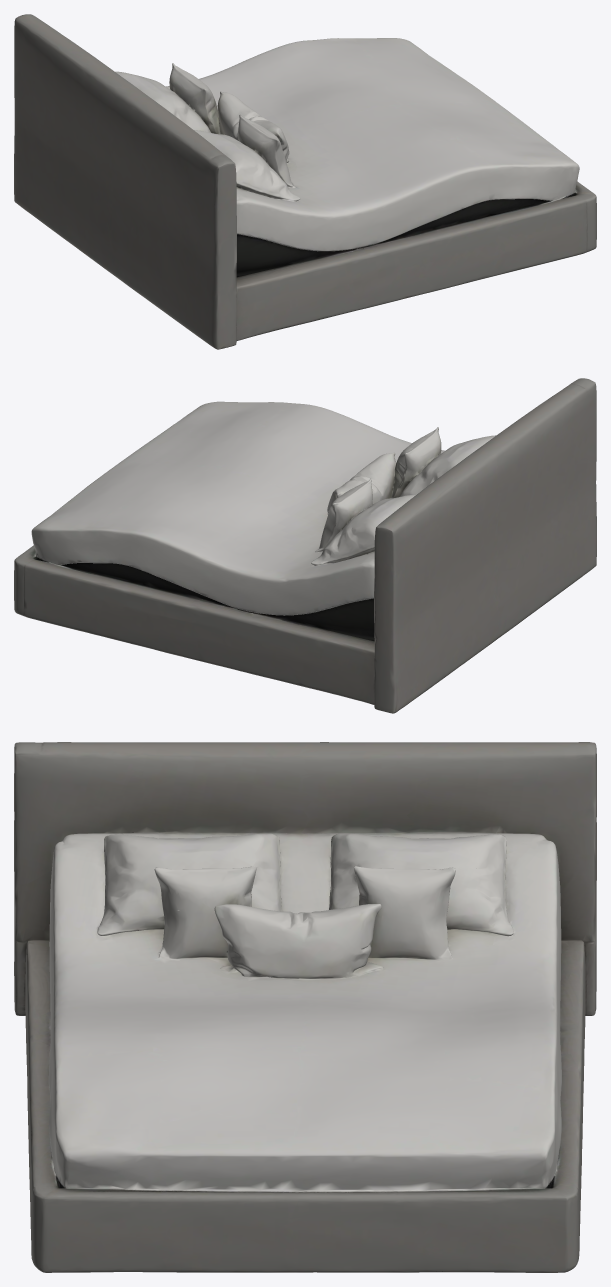
The picture shows the model from 3 angles, top to bottom: view 1: azimuth 30°, elevation 25°; view 2: azimuth 150°, elevation 25°; view 3: azimuth 270°, elevation 25°; orthographic projection. The views are drawn at different scales.
Parts seen in each view (by area): view 1: tripo_node_ab9e6597-f449-4270-bf83-9f3d837f17cd; view 2: tripo_node_ab9e6597-f449-4270-bf83-9f3d837f17cd; view 3: tripo_node_ab9e6597-f449-4270-bf83-9f3d837f17cd.
Part boxes in pixels (x1,y1,x2,y2): tripo_node_ab9e6597-f449-4270-bf83-9f3d837f17cd: [14, 14, 596, 349]; tripo_node_ab9e6597-f449-4270-bf83-9f3d837f17cd: [14, 378, 596, 713]; tripo_node_ab9e6597-f449-4270-bf83-9f3d837f17cd: [14, 742, 596, 1272].
Size of the model in its own units: 2.65 by 1.2 by 2.38.
Materials: 1 (1 with a texture image).
